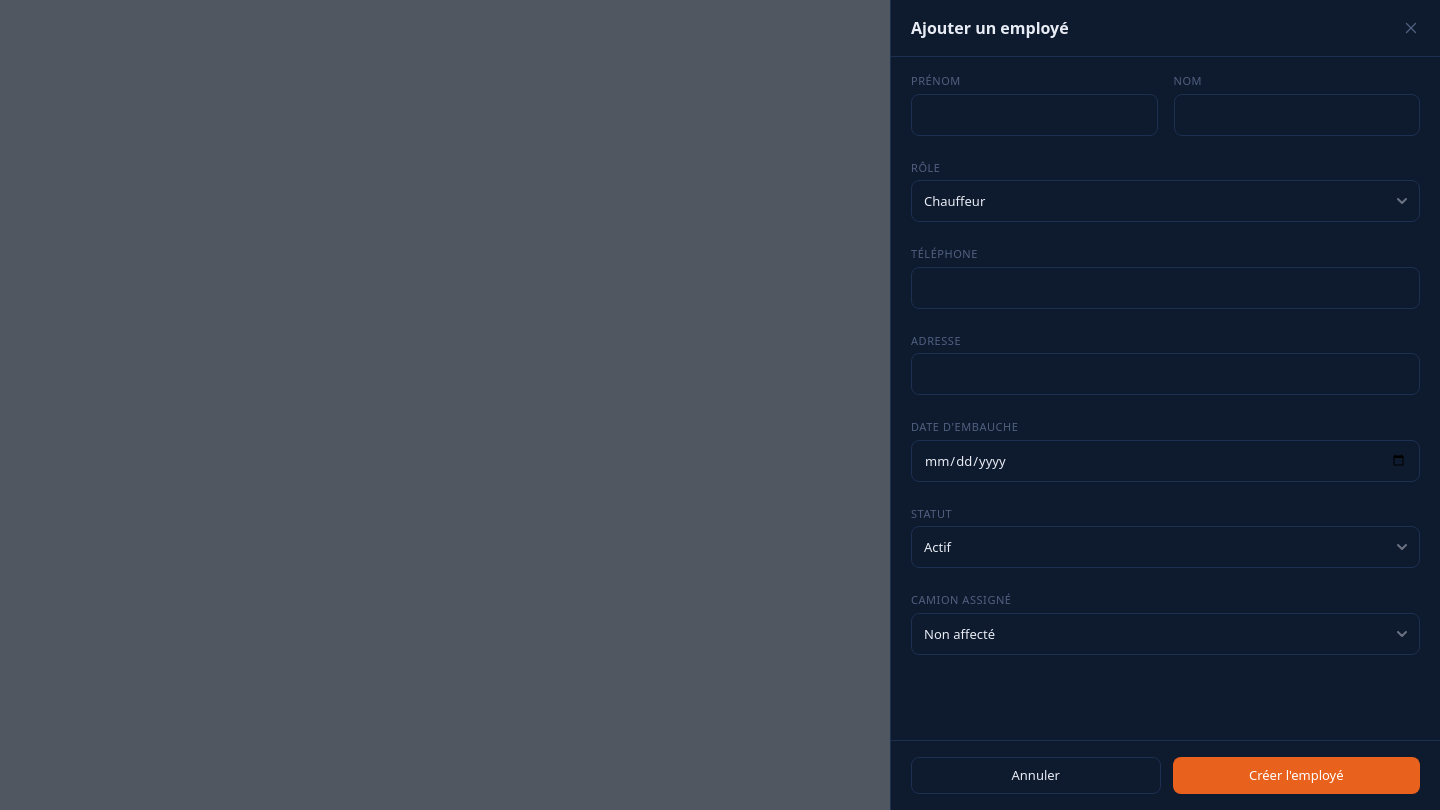
Scenario: EmployeeFormDrawer › add mode (no employee prop) › submission › shows the API error and does not close on failure
In the field labelled "Prénom": (1034, 114) [911,94,1158,136], type "Mamadou"
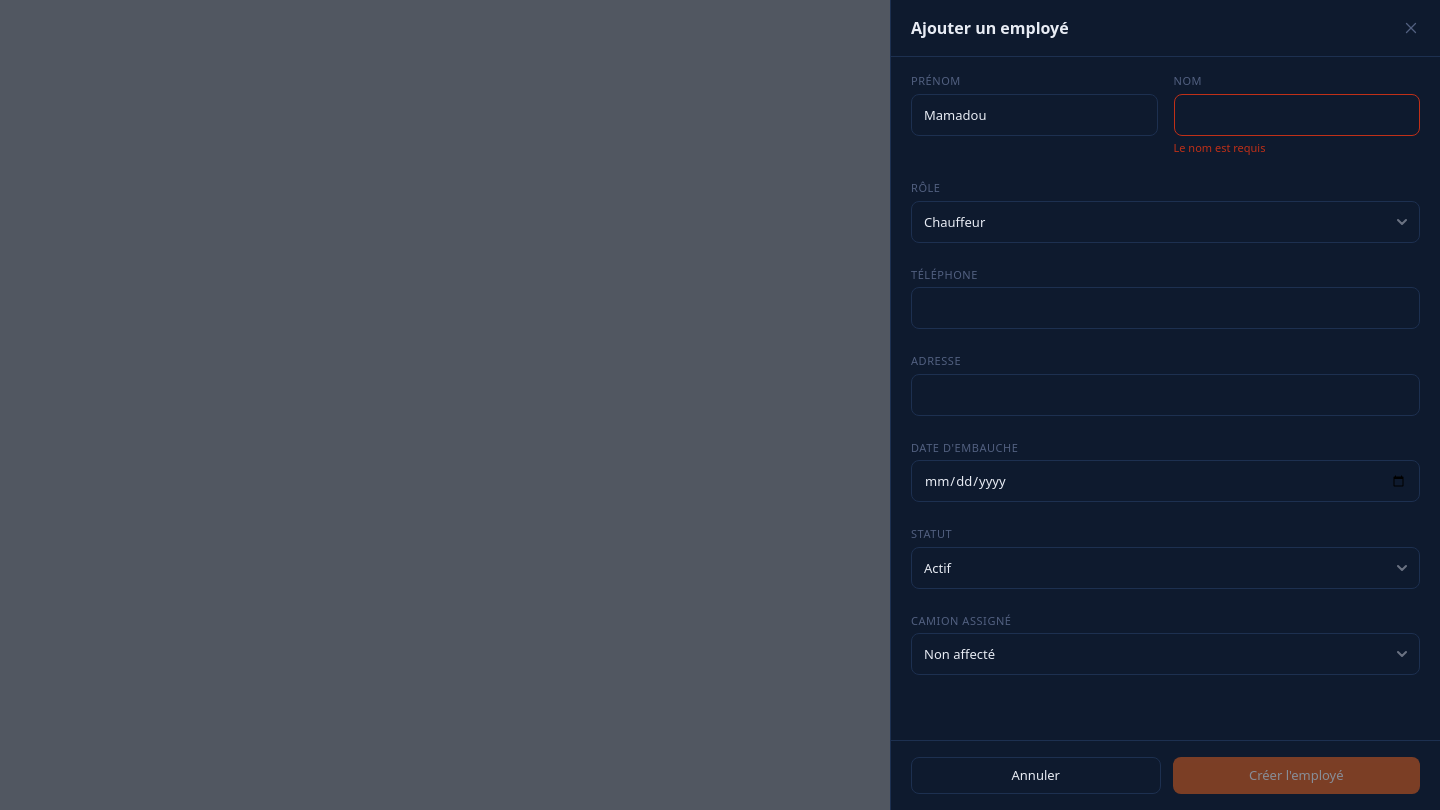
In the field labelled "Nom": (1297, 114) [1174,94,1420,136], type "Diallo"
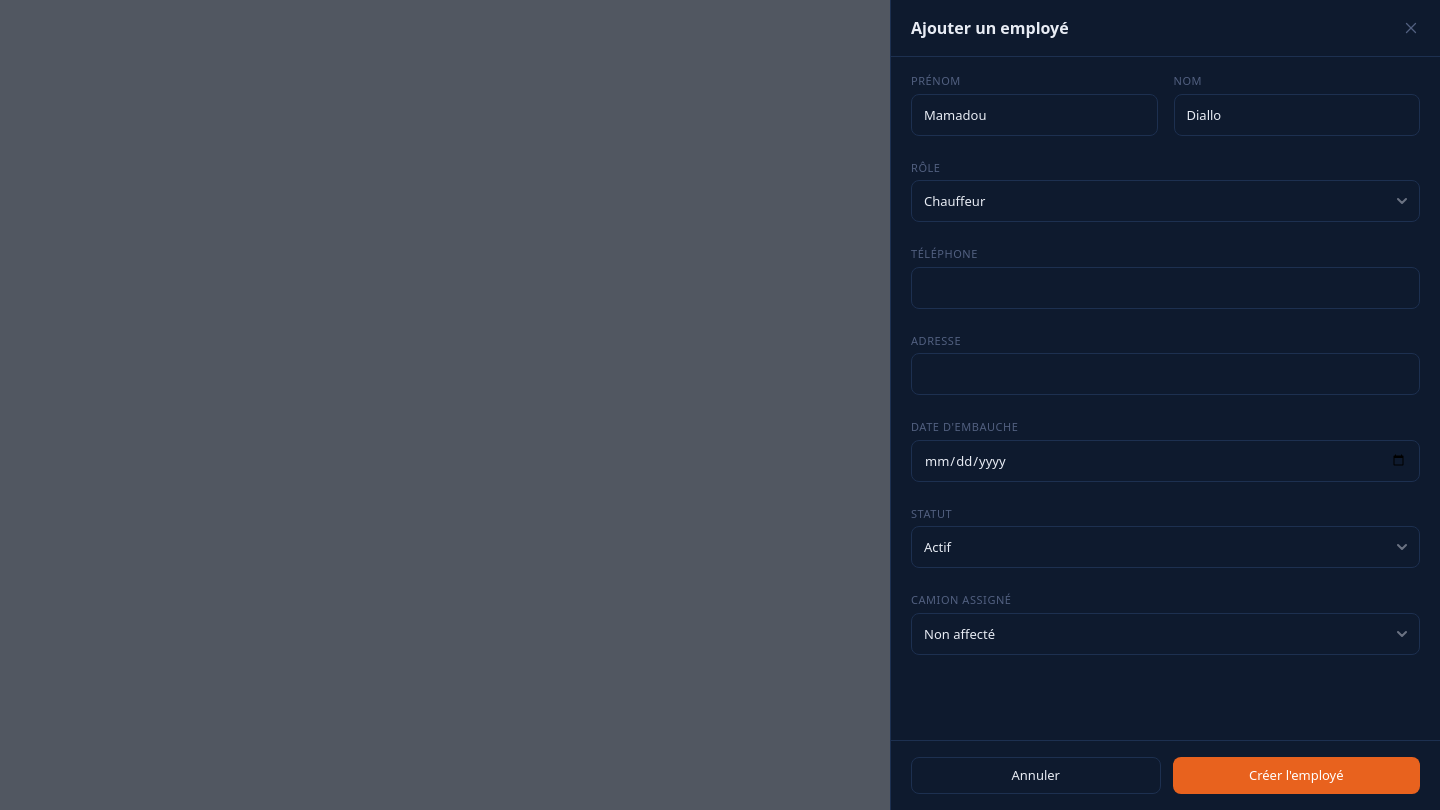
Click the button "Créer l'employé": (1296, 775) [1172,756,1420,794]
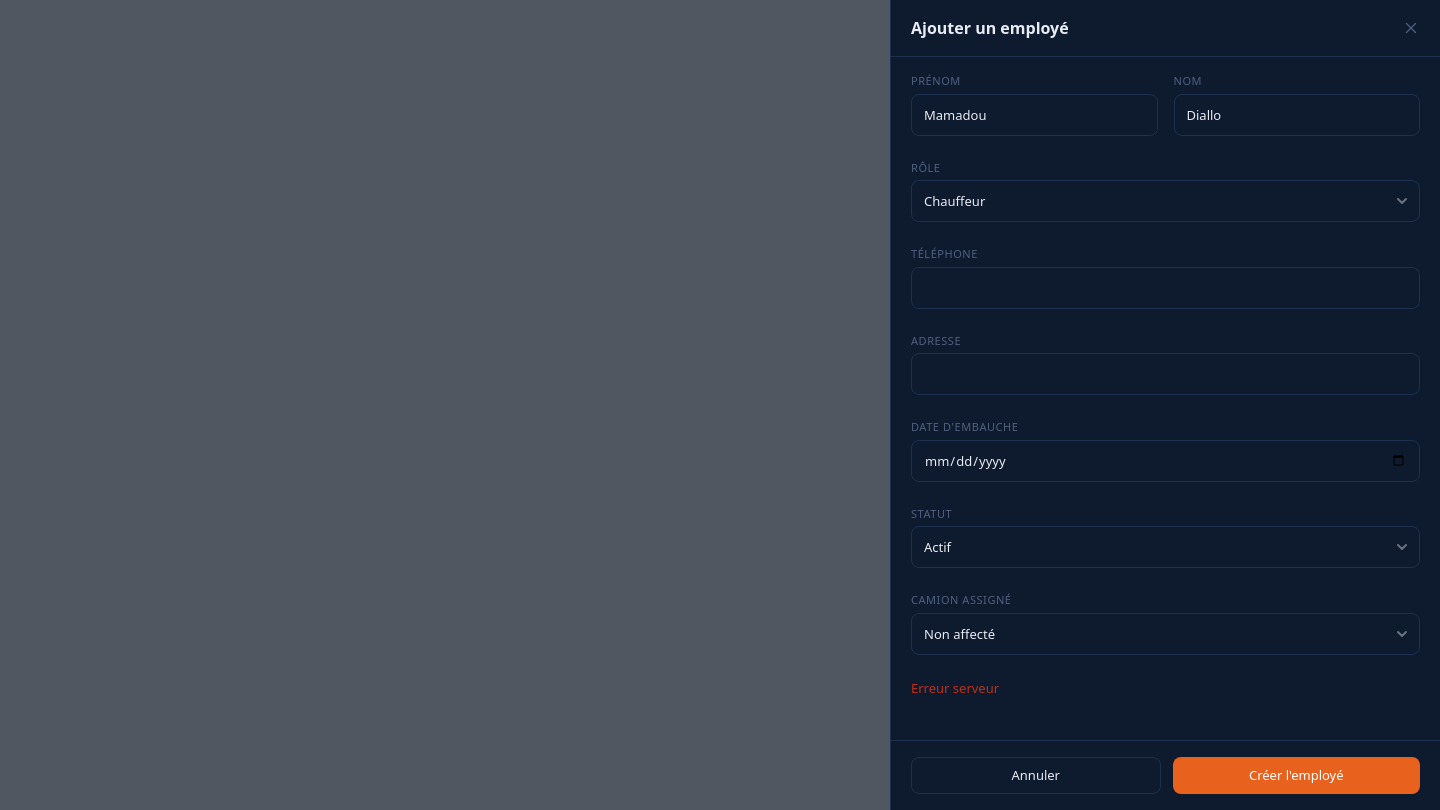
Expected: the text "Erreur serveur" is shown, [911,678,999,696]
